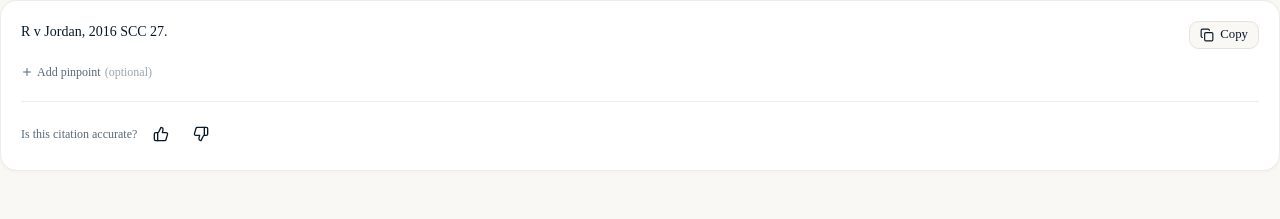
Test case: CitationCard — pinpoint add / edit / remove › updates the displayed citation when pinpoint is typed
Step 1. Click the button "Add pinpoint (optional)" → (86, 72), box [21,64,152,80]
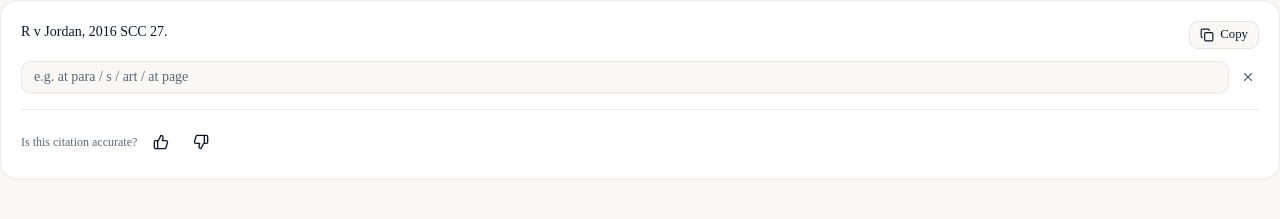
Step 2. Type "at para 47" into the field named "pinpoint reference" → (625, 77), box [21,61,1229,93]
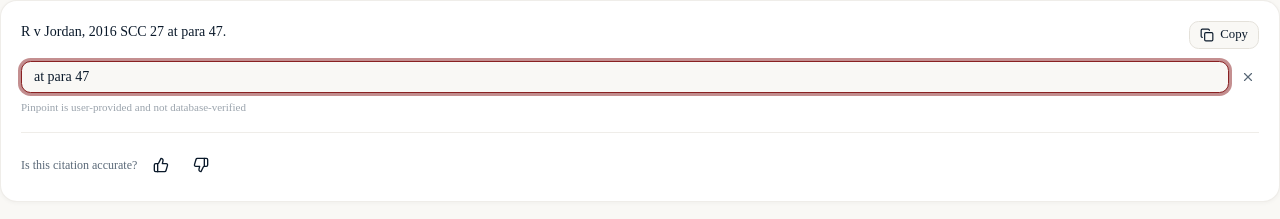
Check: the text "R v Jordan, 2016 SCC 27 at para 47." is shown, box [21,24,226,39]
